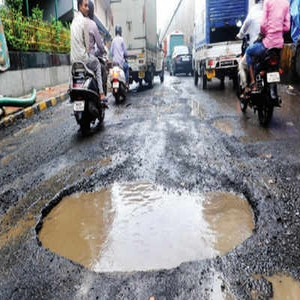pothole: (35, 163, 258, 276)
